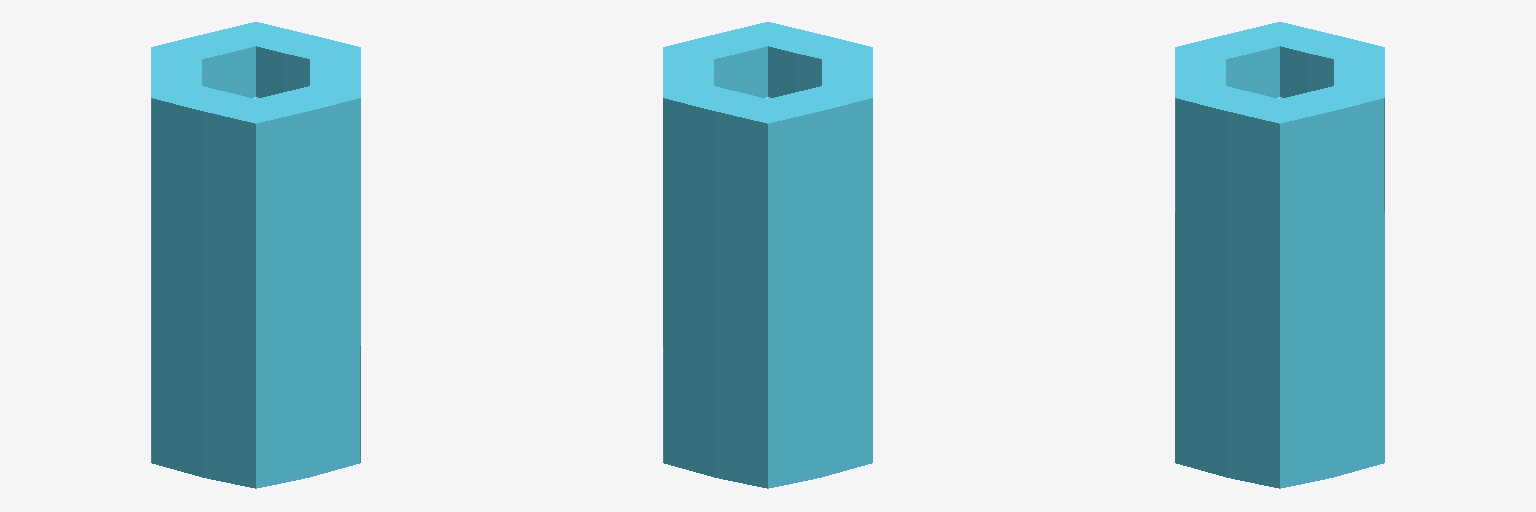
The model's file is baza-8-30.obj.
The picture shows the model from 3 angles: view 1: azimuth 30°, elevation 25°; view 2: azimuth 150°, elevation 25°; view 3: azimuth 270°, elevation 25°; orthographic projection.
Visible parts, largest first — view 1: Plane; view 2: Plane; view 3: Plane.
Boxes of the visible parts, box(x1,y1,x2,y2) form: Plane: box(151, 22, 360, 488); Plane: box(663, 22, 872, 488); Plane: box(1175, 22, 1384, 488).
Size of the model in its own units: 0.3551 by 0.5951 by 0.3096.